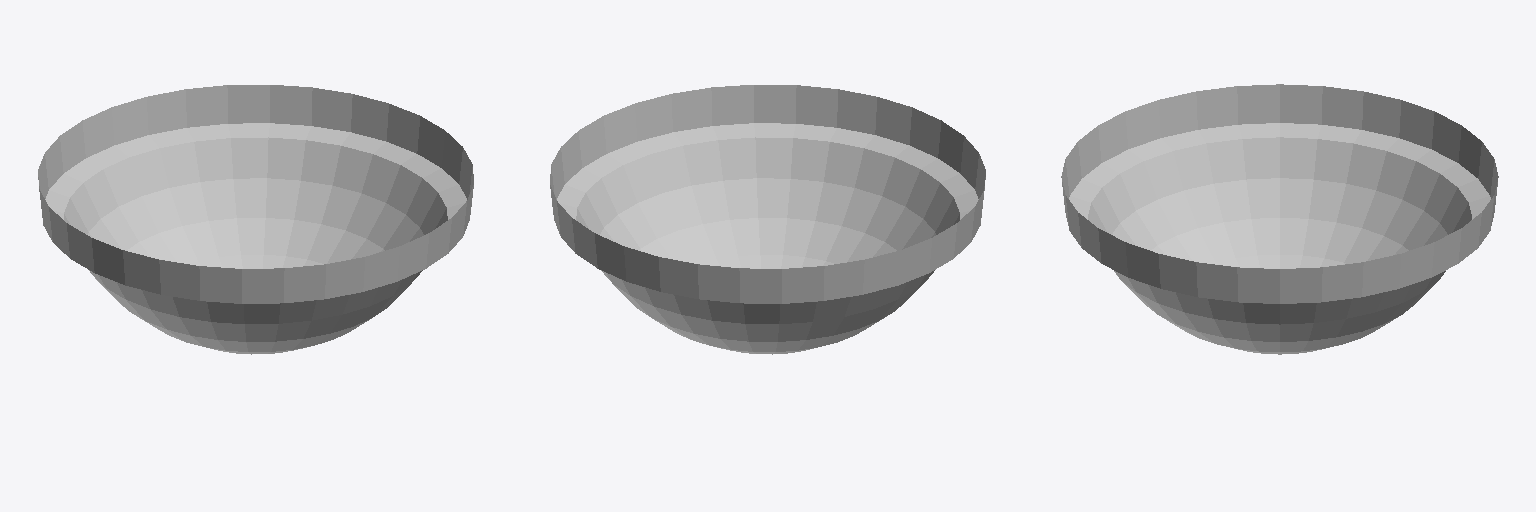
File: room_lampe_plafond.obj
3 renders of one model, left to right at view 1: azimuth 30°, elevation 25°; view 2: azimuth 150°, elevation 25°; view 3: azimuth 270°, elevation 25°, orthographic.
Parts seen in each view (by area): view 1: Sphere; view 2: Sphere; view 3: Sphere.
Part boxes in pixels (x1,y1,x2,y2): Sphere: (38,85,473,354); Sphere: (550,85,985,354); Sphere: (1061,84,1498,354).
Size of the model in its own units: 2.1 by 0.8394 by 2.1.